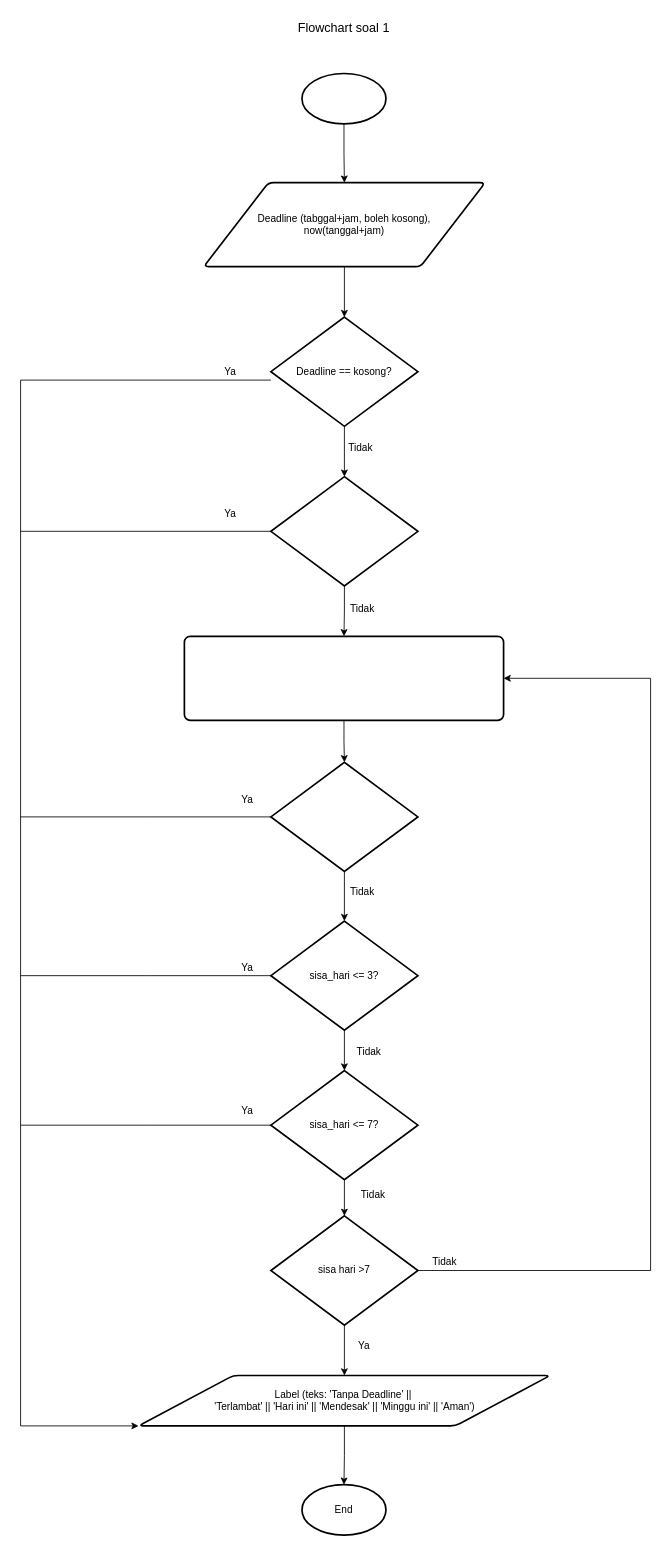
Some shapes in this 672 by 1550 pixel diagram are drawn without their labels. Here are the shapes that lost their labels. From the top down, the centre of each, then its label:
At point 343,98: "Start".
At point 344,530: "Deadline < now?".
At point 343,678: "sisa_hari = tanggal(deadline) - tanggal (now)".
At point 344,816: "sisa_hari = 0?".
